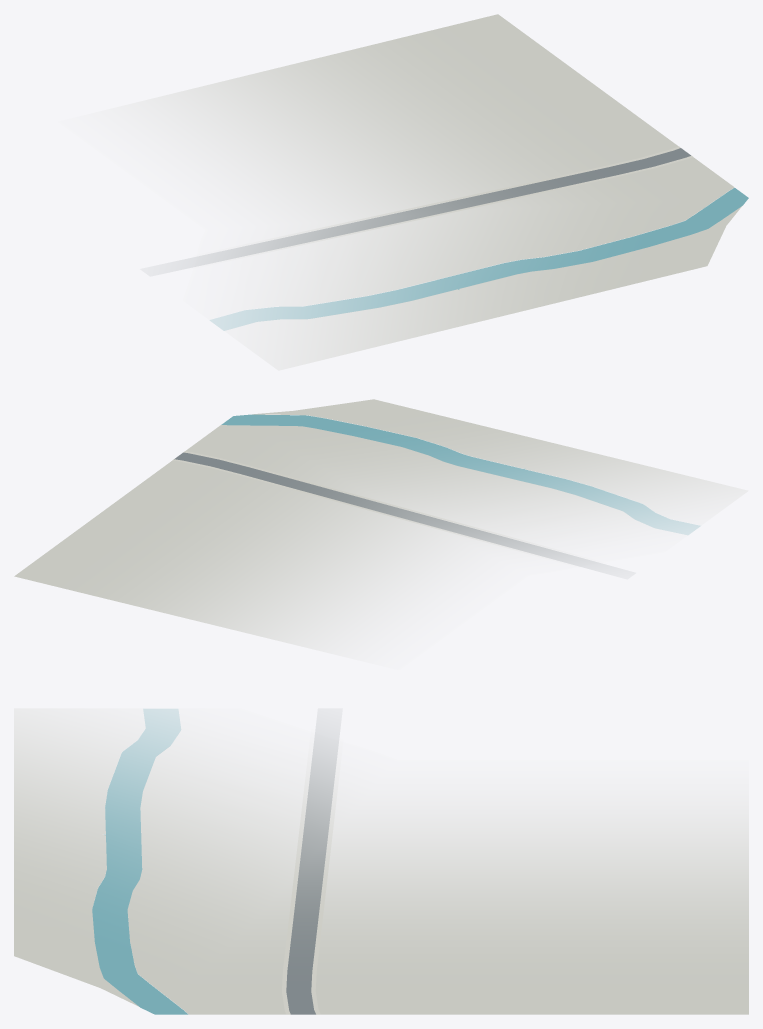
3 views of the same model, one above another, from view 1: azimuth 30°, elevation 25°; view 2: azimuth 150°, elevation 25°; view 3: azimuth 270°, elevation 25° (orthographic). The views are drawn at different scales.
Parts seen in each view (by area): view 1: city; view 2: city; view 3: city.
Part boxes in pixels (x1,y1,x2,y2): city: (122,14,748,370); city: (14,399,747,655); city: (14,709,748,1014).
Bounding box in the file's own units: 493 × 0.4 × 500.
